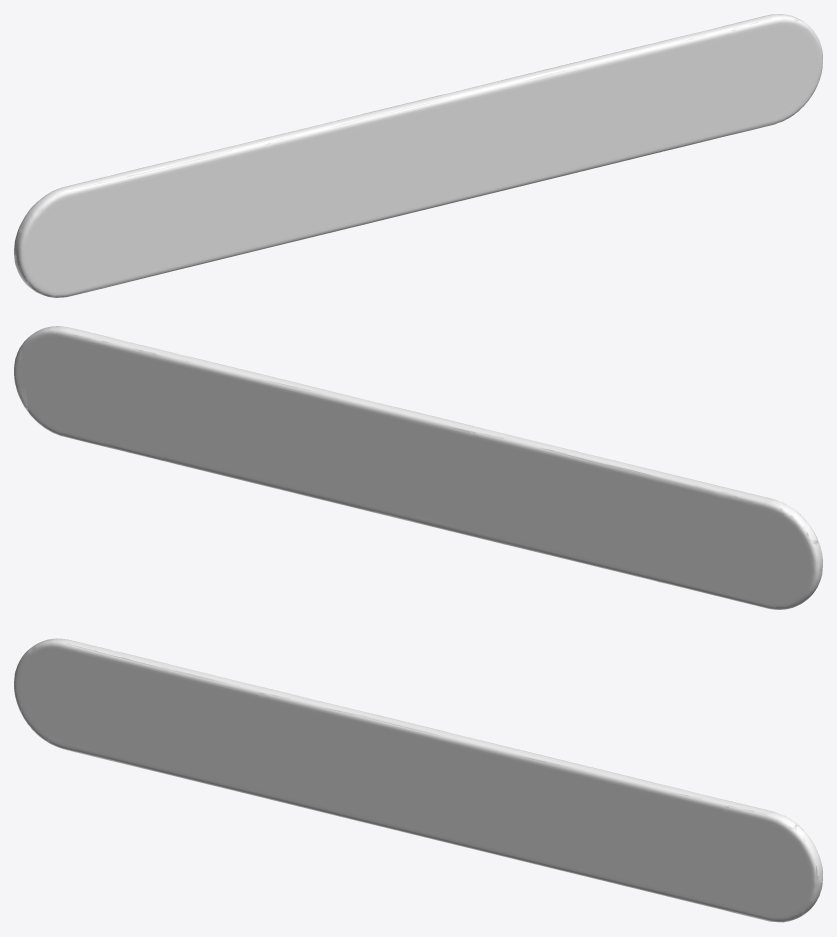
The model's file is navbar-transformed.glb.
The picture shows the model from 3 angles, top to bottom: view 1: azimuth 30°, elevation 25°; view 2: azimuth 150°, elevation 25°; view 3: azimuth 330°, elevation 25°; orthographic projection.
Parts seen in each view (by area): view 1: Navbar Background; view 2: Navbar Background; view 3: Navbar Background.
Part boxes in pixels (bbox=[...]): Navbar Background: bbox=[14, 14, 822, 297]; Navbar Background: bbox=[14, 326, 822, 609]; Navbar Background: bbox=[14, 638, 822, 922].
Size of the model in its own units: 400 by 50.8 by 6.34.
Materials: 1 (1 with a texture image).
